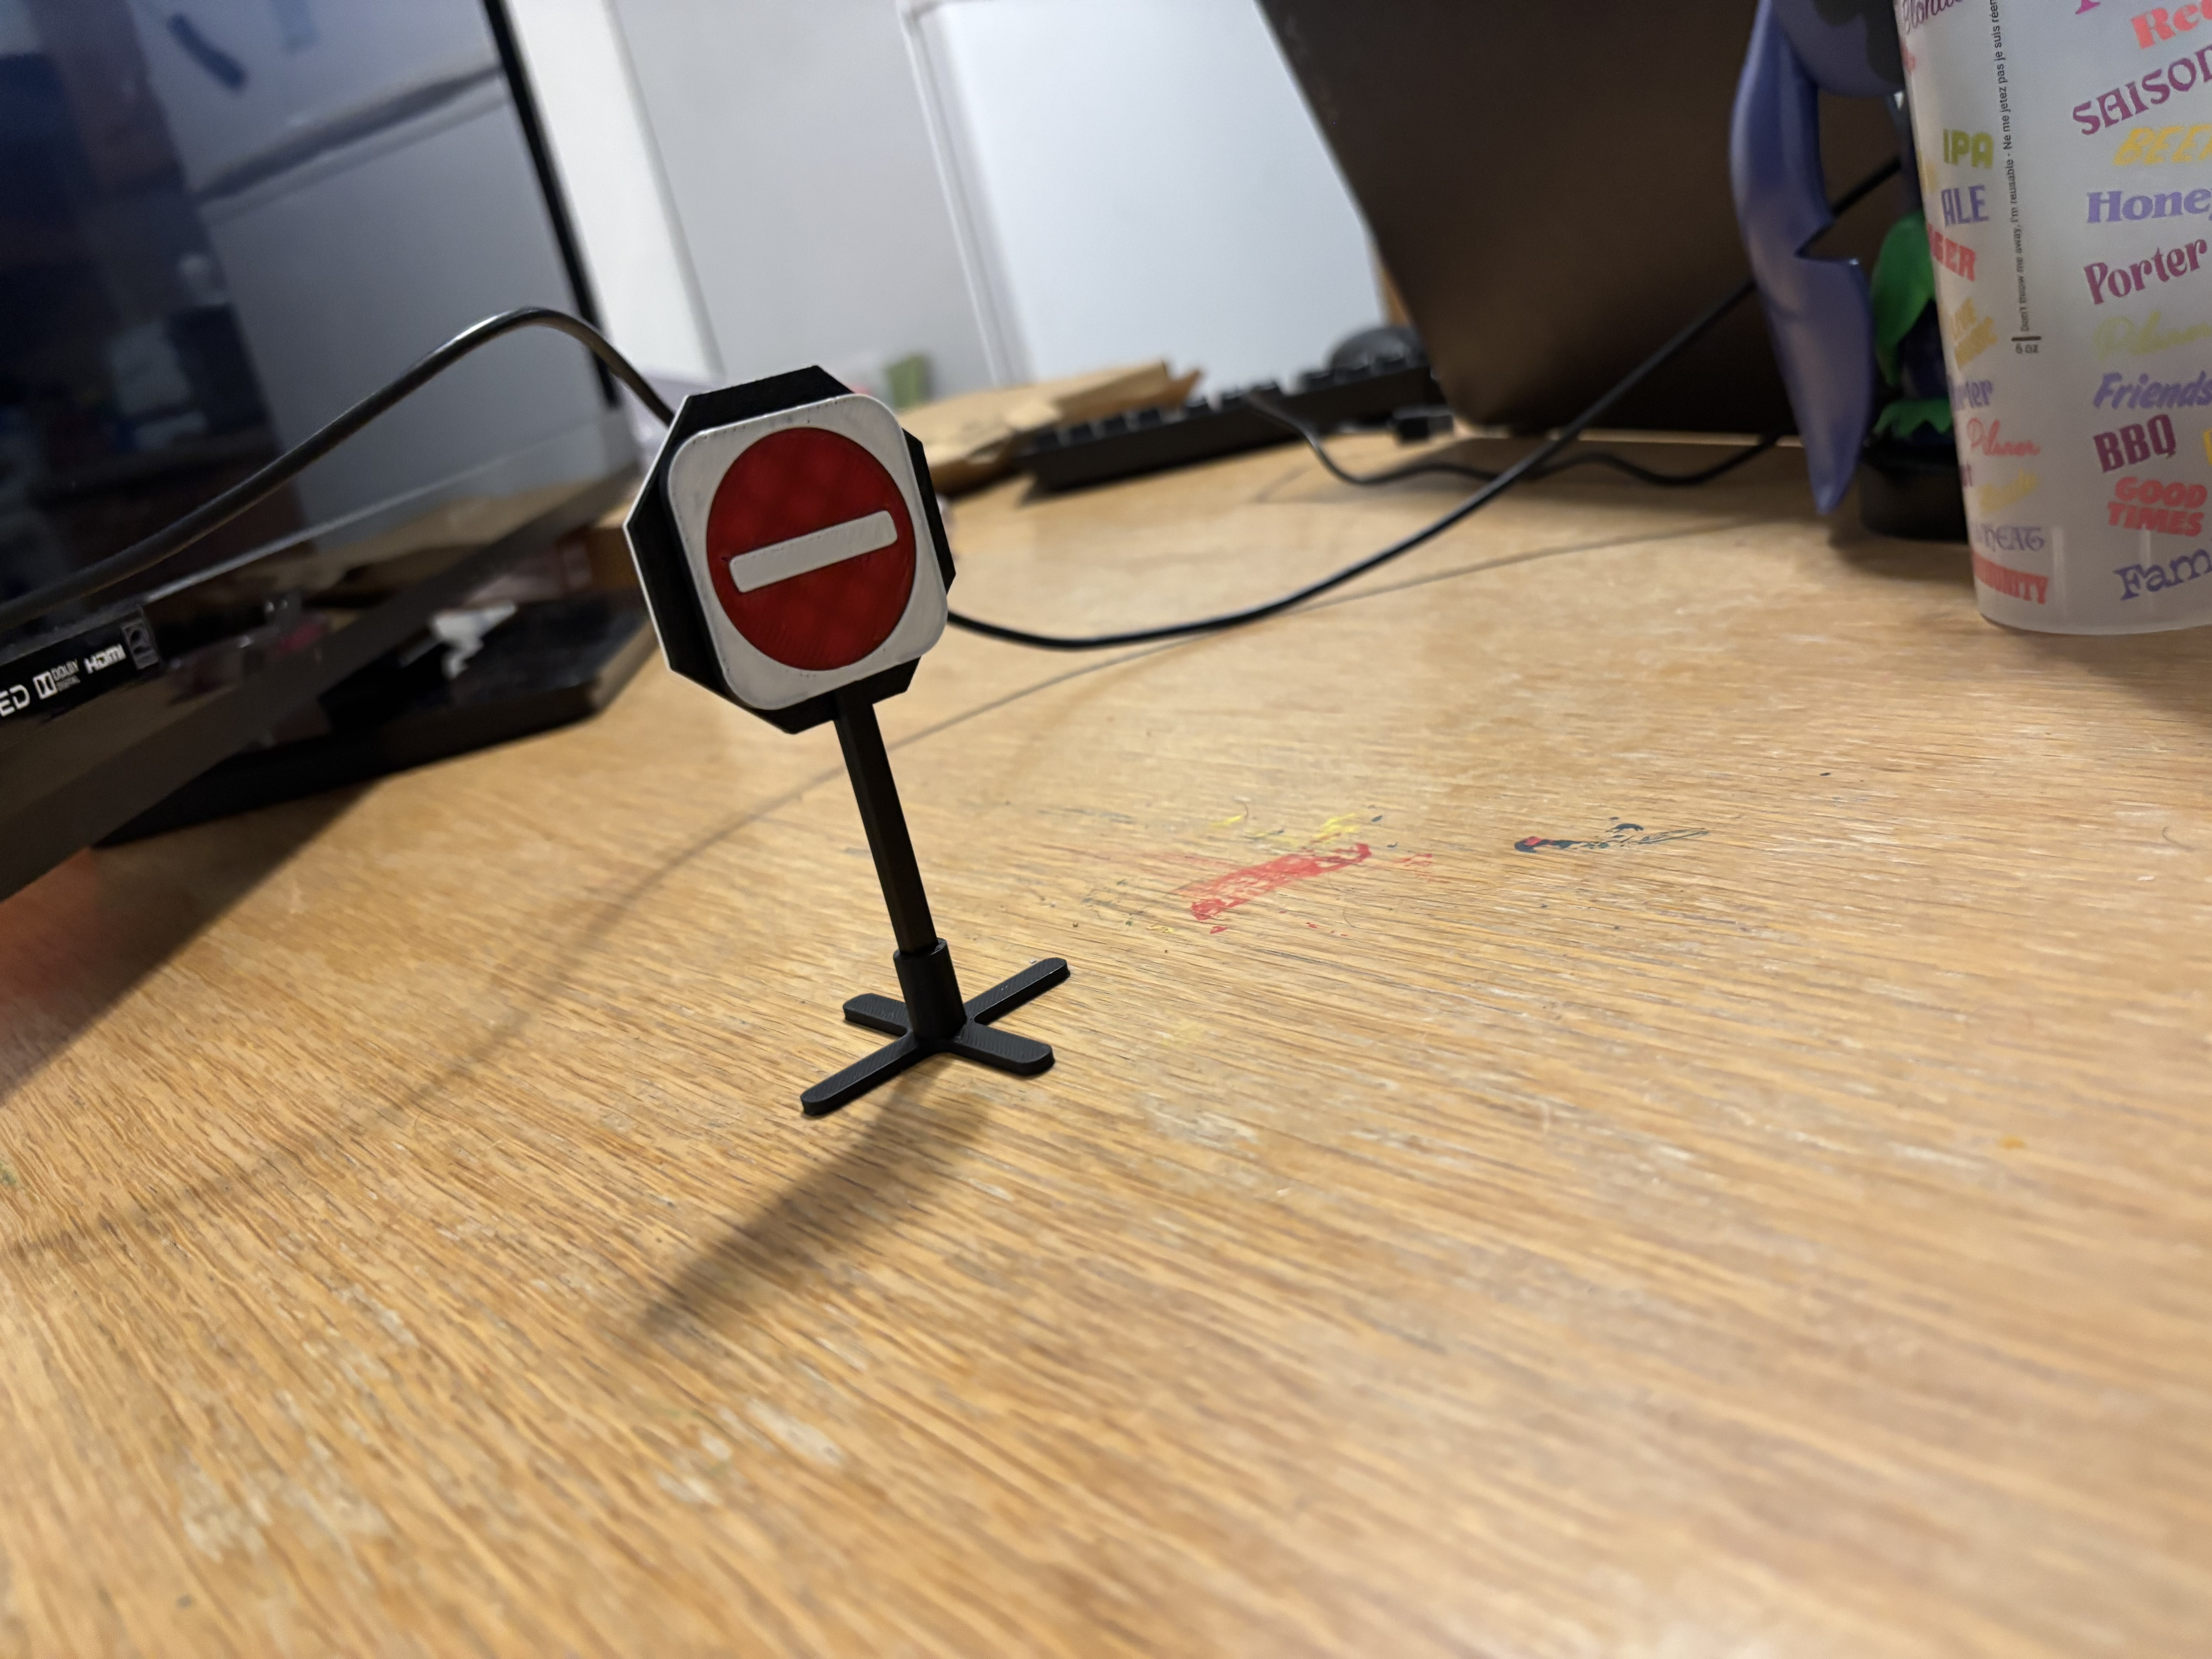sign_noentry: (653, 422, 974, 714)
